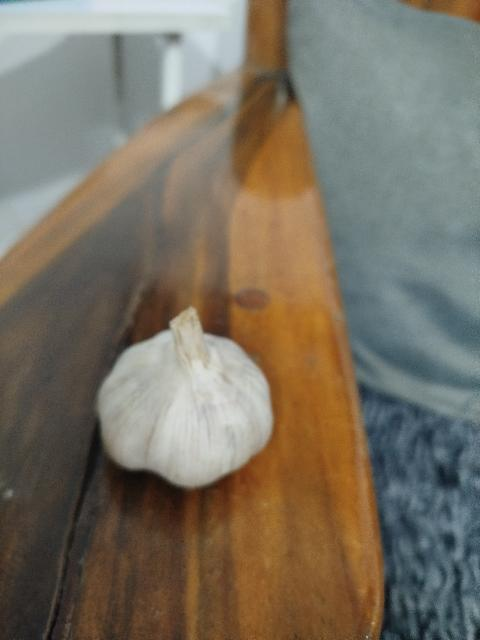garlic: (96, 306, 274, 489)
